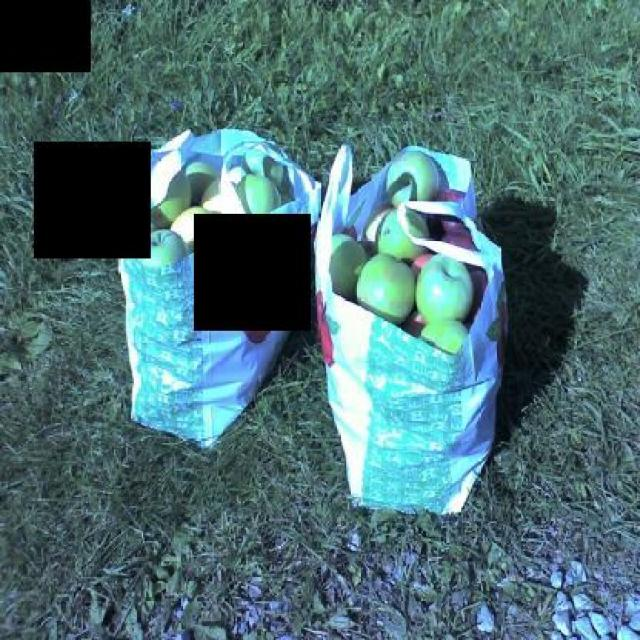plastic bag: (309, 140, 508, 515), (117, 125, 323, 452)
